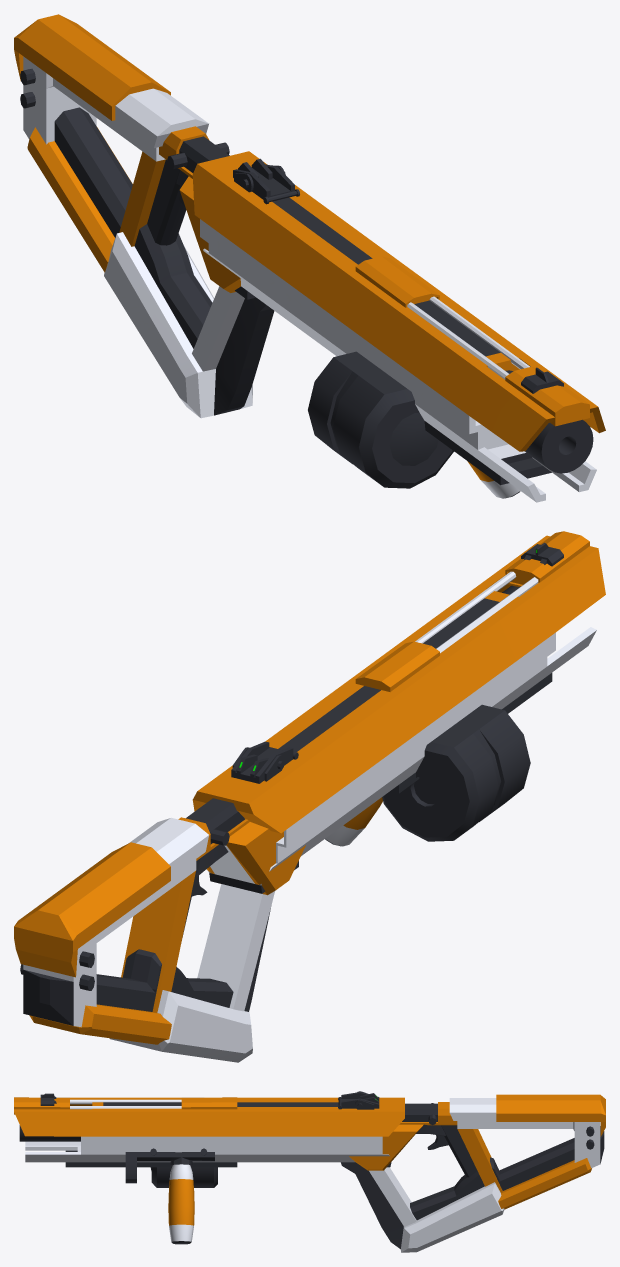
The model's file is biggun1.fbx.
The picture shows the model from 3 angles, top to bottom: view 1: azimuth 30°, elevation 25°; view 2: azimuth 150°, elevation 25°; view 3: azimuth 270°, elevation 25°; orthographic projection. The views are drawn at different scales.
Parts seen in each view (by area): view 1: mergedBlocks; view 2: mergedBlocks; view 3: mergedBlocks.
Boxes of the visible parts, x1,y1,x2,y2 form: mergedBlocks: [14, 14, 605, 502]; mergedBlocks: [14, 531, 605, 1062]; mergedBlocks: [14, 1091, 605, 1252].
Size of the model in its own units: 10.9 by 15.01 by 53.01.
